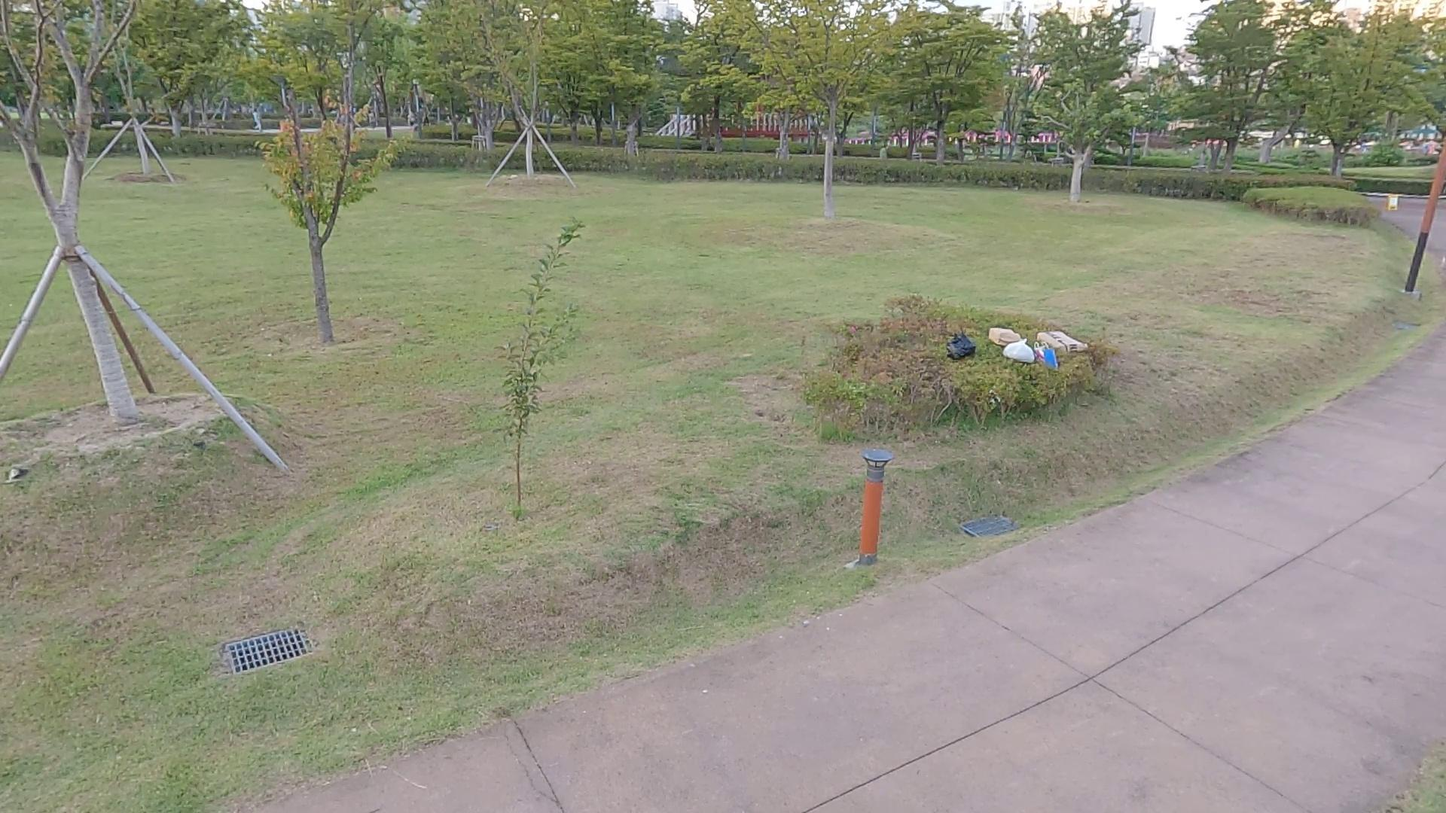trash: (1035, 324, 1092, 358), (998, 332, 1035, 364), (1032, 335, 1060, 376), (986, 320, 1023, 351), (946, 327, 975, 364)
